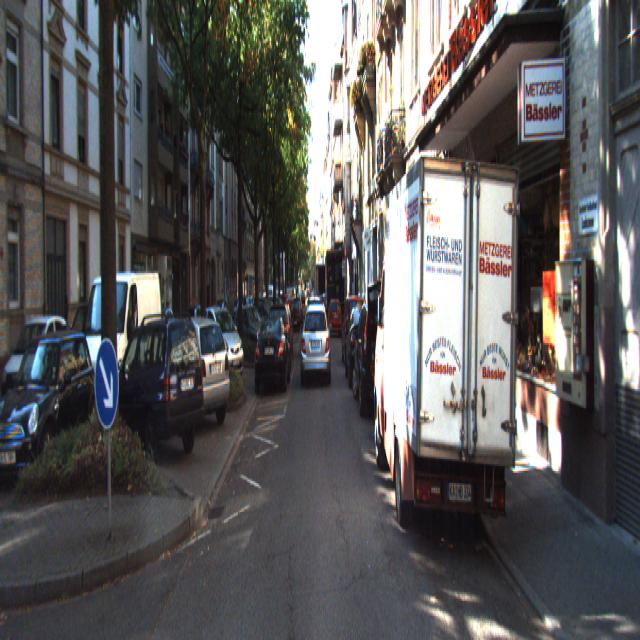Car: (372, 146, 526, 562), (104, 317, 208, 473), (0, 329, 102, 482), (72, 262, 164, 429), (152, 317, 232, 433), (0, 318, 70, 410), (352, 300, 403, 416), (196, 302, 246, 384), (344, 306, 381, 386), (253, 313, 290, 392), (301, 301, 331, 383), (232, 303, 270, 356), (341, 291, 366, 364), (304, 297, 324, 357), (327, 301, 342, 341)
